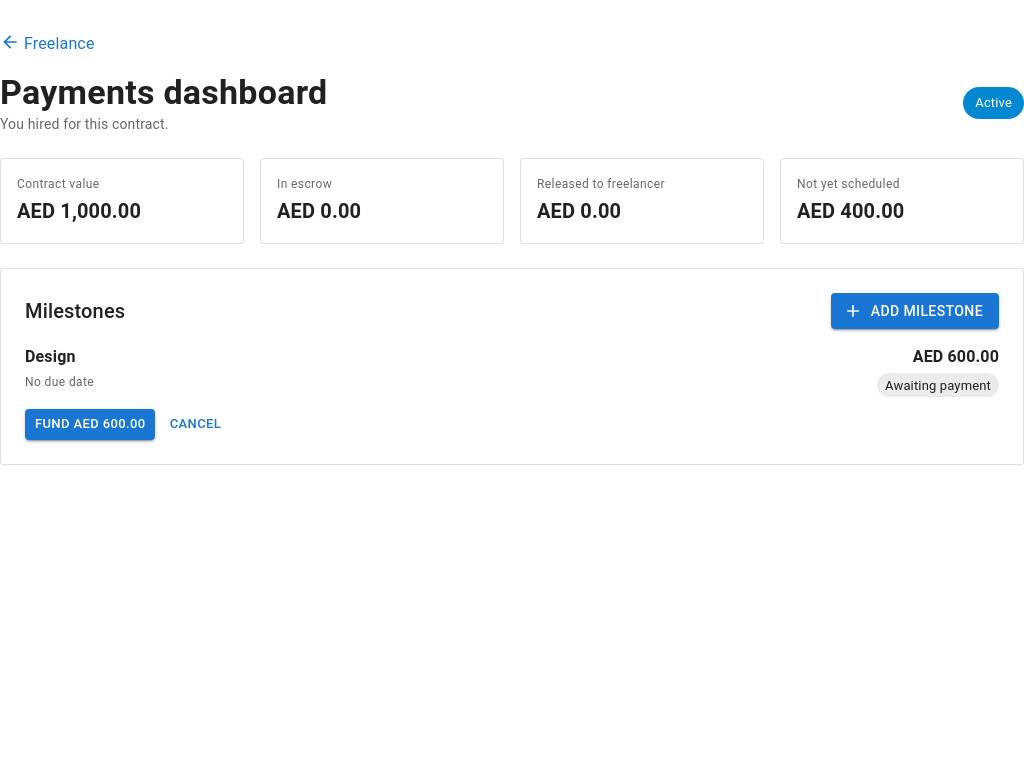
Test: contract screen › refuses a milestone larger than what is left to schedule, before asking the server
This screenshot has width=1024, height=768.
Click the button "Add milestone". click: (915, 311)
box: [831,293,999,329]
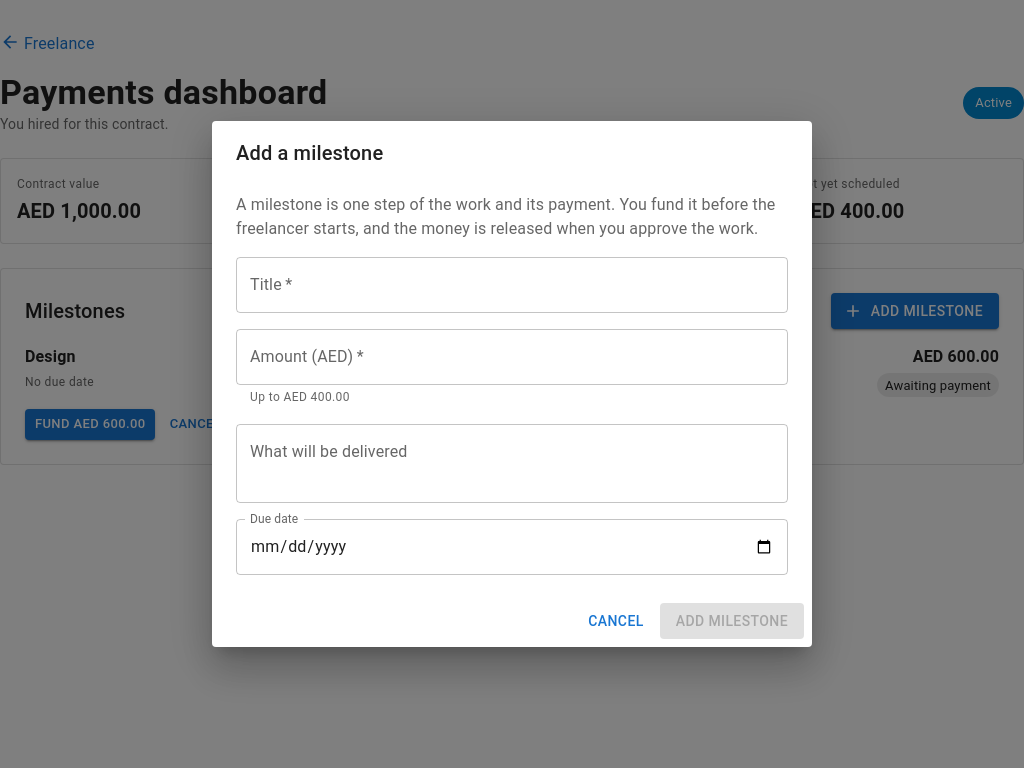
Type "Build" into the field labelled "Title *". click: (512, 285)
box: [236,257,788,313]
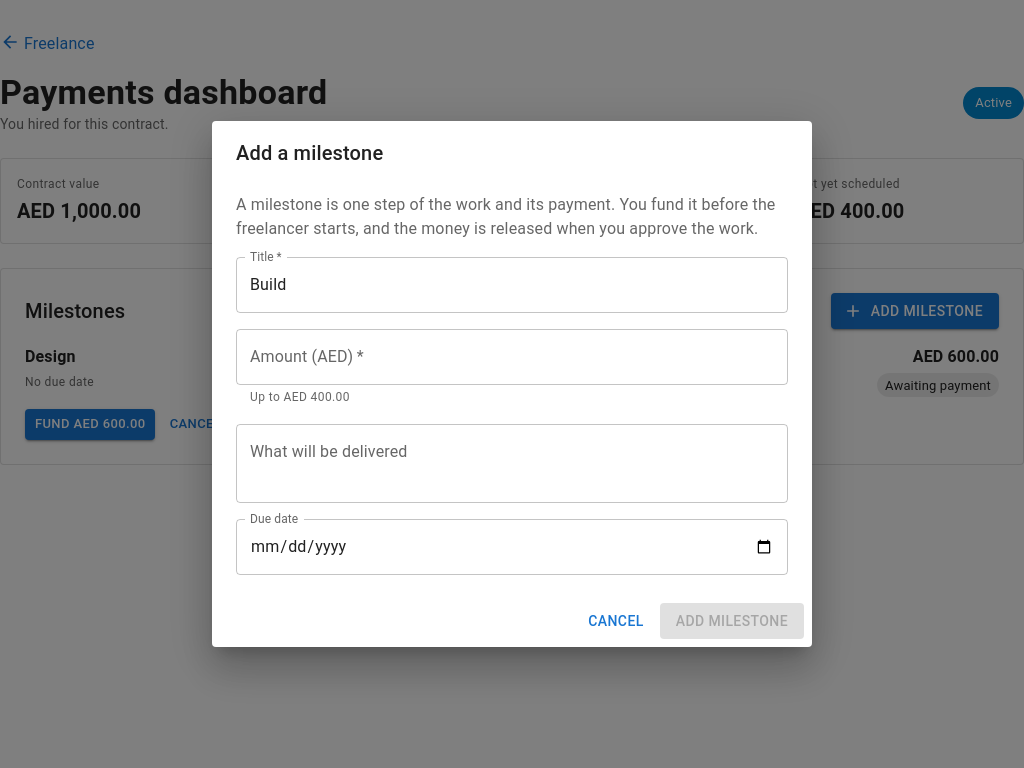
Type "500" into the number field labelled "Amount (AED) *". click: (512, 357)
box: [236,329,788,385]
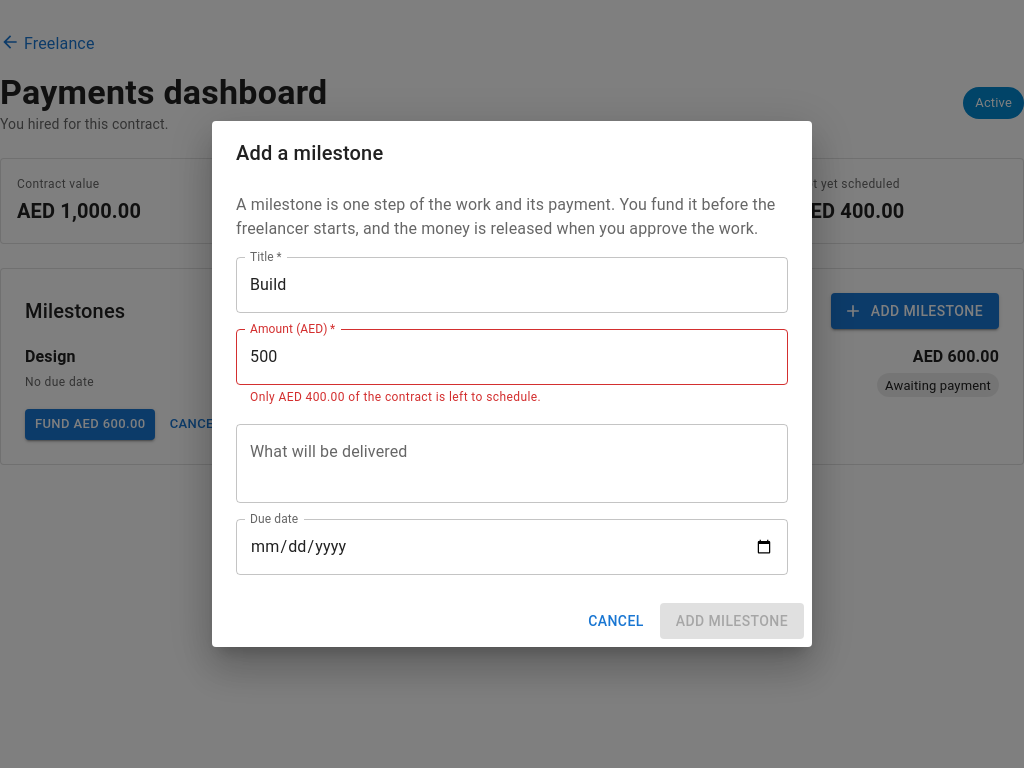
Check: the button "Add milestone" is disabled, box [660,603,804,639]
Check: the text "Only AED 400.00 of the contract is left to schedule." is shown, box [250,390,541,404]
